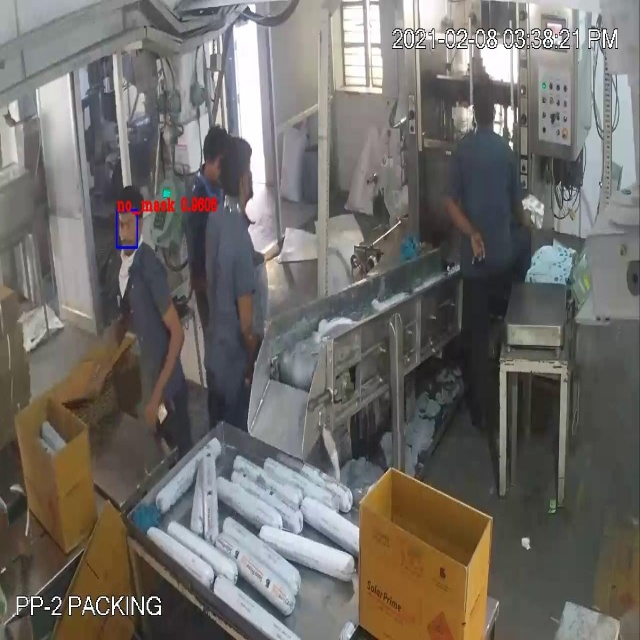Sin_guantes: (147, 290, 183, 428), (432, 196, 494, 270), (234, 279, 265, 361)
